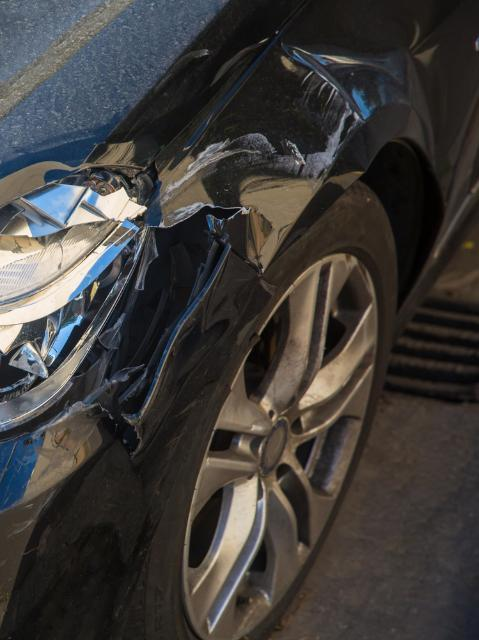crack: (102, 409, 142, 459), (198, 205, 246, 220)
dent: (153, 44, 347, 187)
lamp broken: (0, 166, 179, 439)
scratch: (11, 406, 99, 539)
